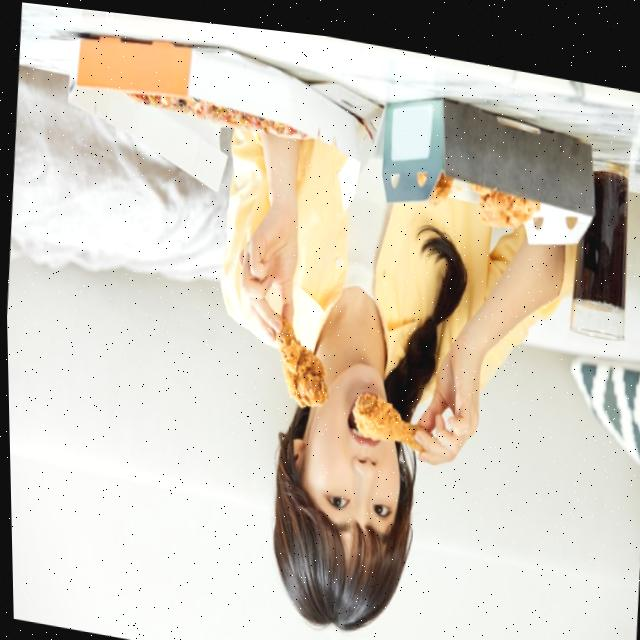eating-person: (186, 86, 613, 640)
